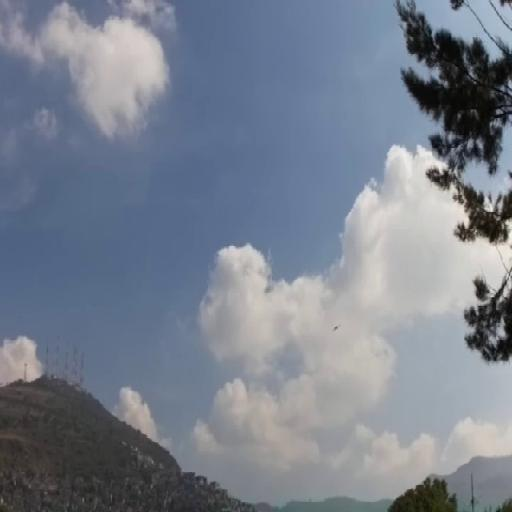drones: (329, 320, 345, 334)
